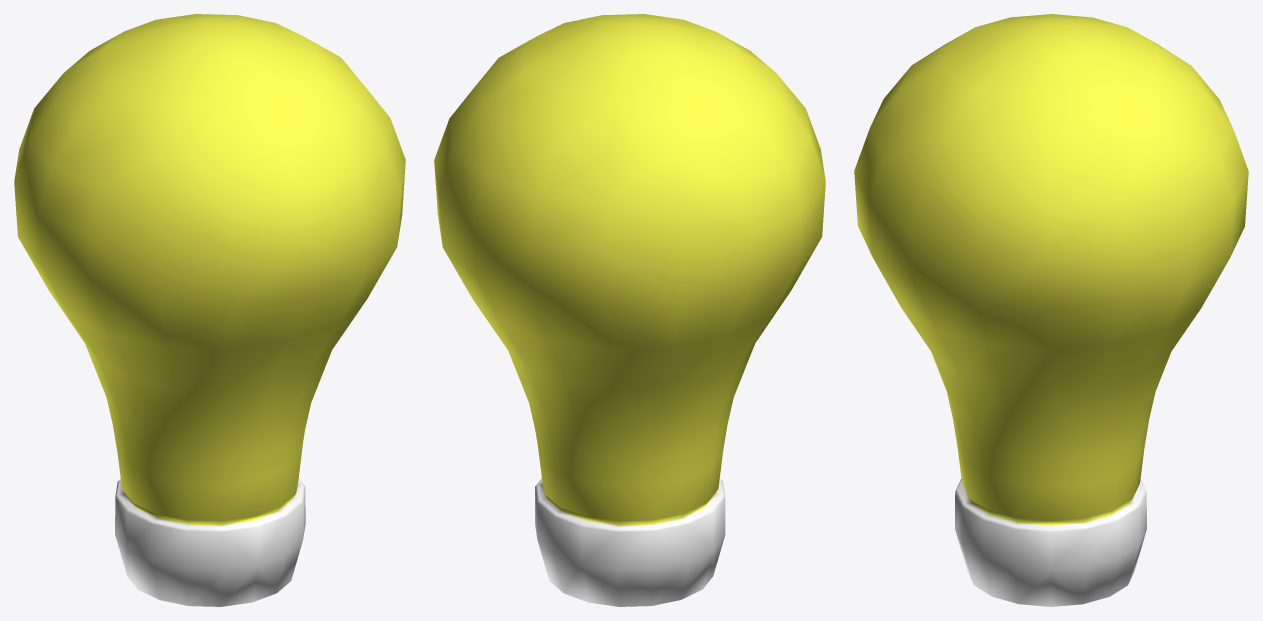
The model's file is lightBulb.fbx.
3 renders of one model, left to right at view 1: azimuth 30°, elevation 25°; view 2: azimuth 150°, elevation 25°; view 3: azimuth 270°, elevation 25°, orthographic.
Visible parts, largest first — view 1: KitchenLight; view 2: KitchenLight; view 3: KitchenLight.
Part boxes in pixels (x1,y1,x2,y2): KitchenLight: (14, 14, 405, 606); KitchenLight: (434, 14, 825, 606); KitchenLight: (854, 14, 1248, 606).
Bounding box in the file's own units: 1858 × 2798 × 1858.
